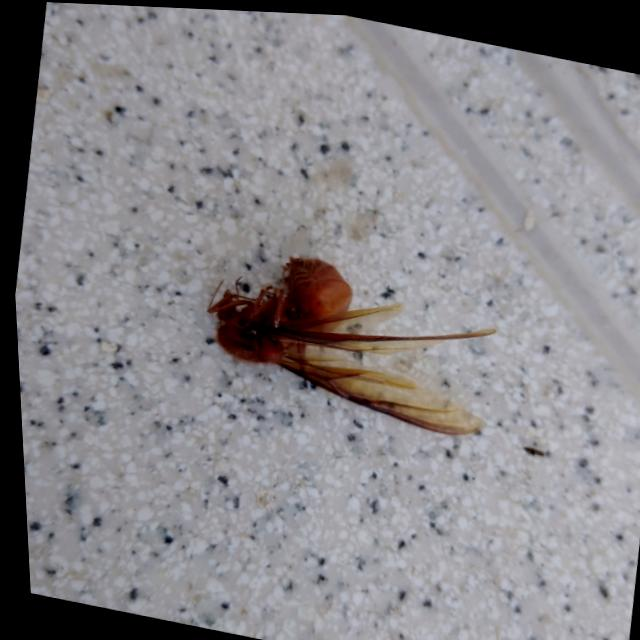Dead-Male-Alate: (188, 233, 504, 439)
